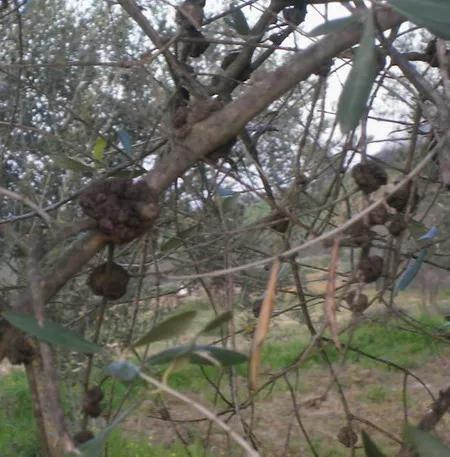Tuberculosis: (333, 158, 427, 312), (76, 171, 164, 250), (74, 378, 110, 448), (82, 258, 136, 300)
